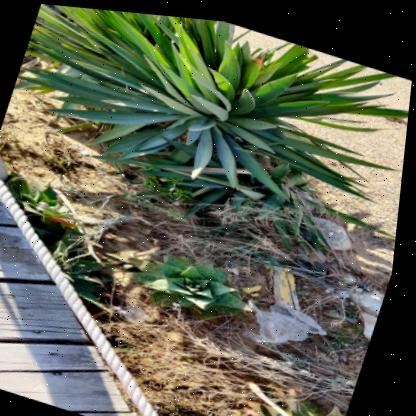Plastic: (249, 292, 332, 336), (264, 245, 331, 265), (119, 299, 157, 318), (318, 243, 347, 267)
Waste: (365, 232, 371, 238)
